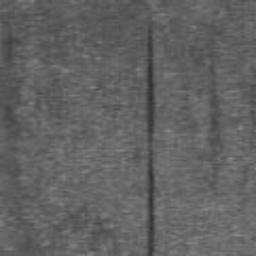Scratches: (148, 24, 156, 256)
